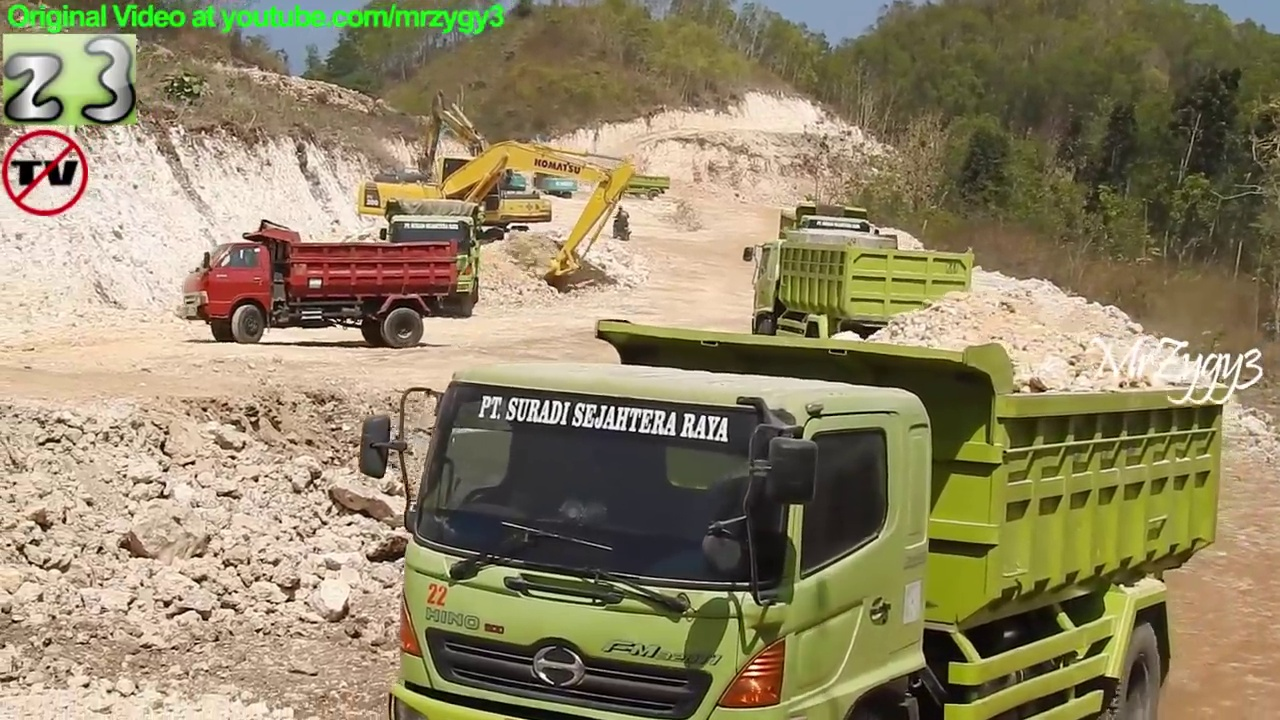excavator: (357, 138, 637, 285), (412, 92, 560, 247), (423, 117, 530, 210), (534, 140, 581, 199)
truck: (357, 312, 1230, 720), (174, 216, 462, 351), (740, 226, 979, 365), (379, 196, 489, 320), (778, 199, 885, 295), (595, 167, 672, 206)
